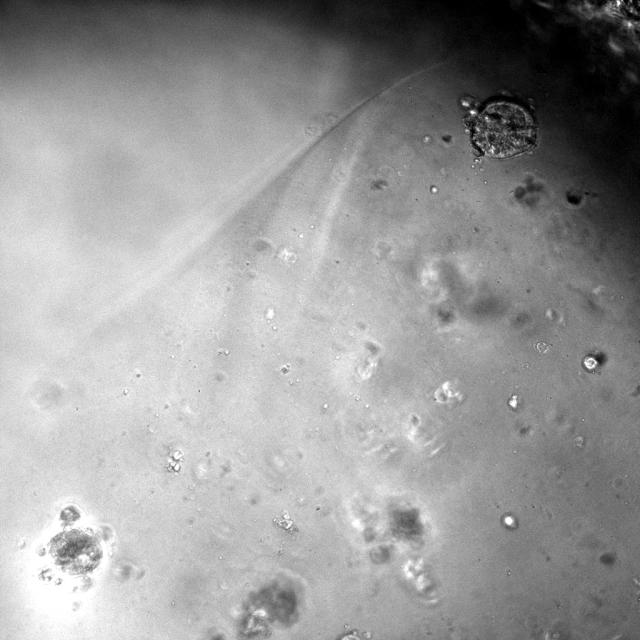organoid: (36, 504, 112, 584), (349, 496, 428, 563), (459, 95, 538, 158), (238, 576, 302, 637), (513, 174, 545, 207), (501, 512, 518, 530), (582, 354, 598, 371), (566, 189, 582, 205), (508, 394, 519, 410)
